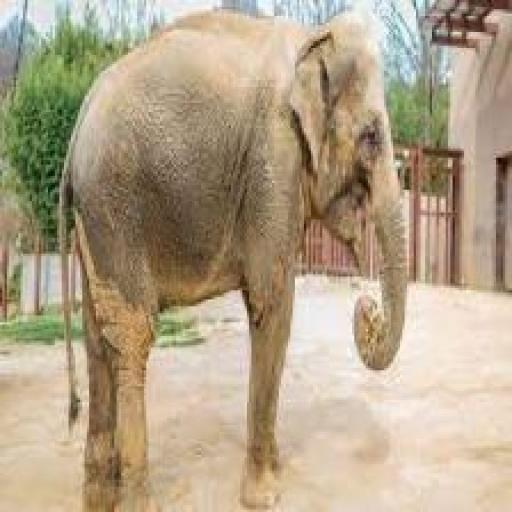Elephant: (25, 4, 428, 511)
